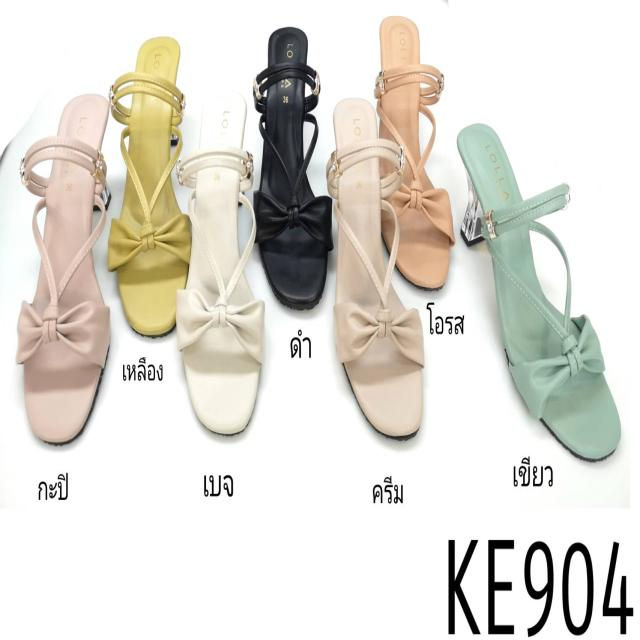bej: (181, 86, 263, 433)
black: (258, 24, 330, 309)
cream: (330, 96, 428, 440)
green: (457, 123, 617, 465)
kapi: (23, 93, 112, 446)
orot: (377, 18, 456, 288)
yellow: (114, 41, 192, 336)
